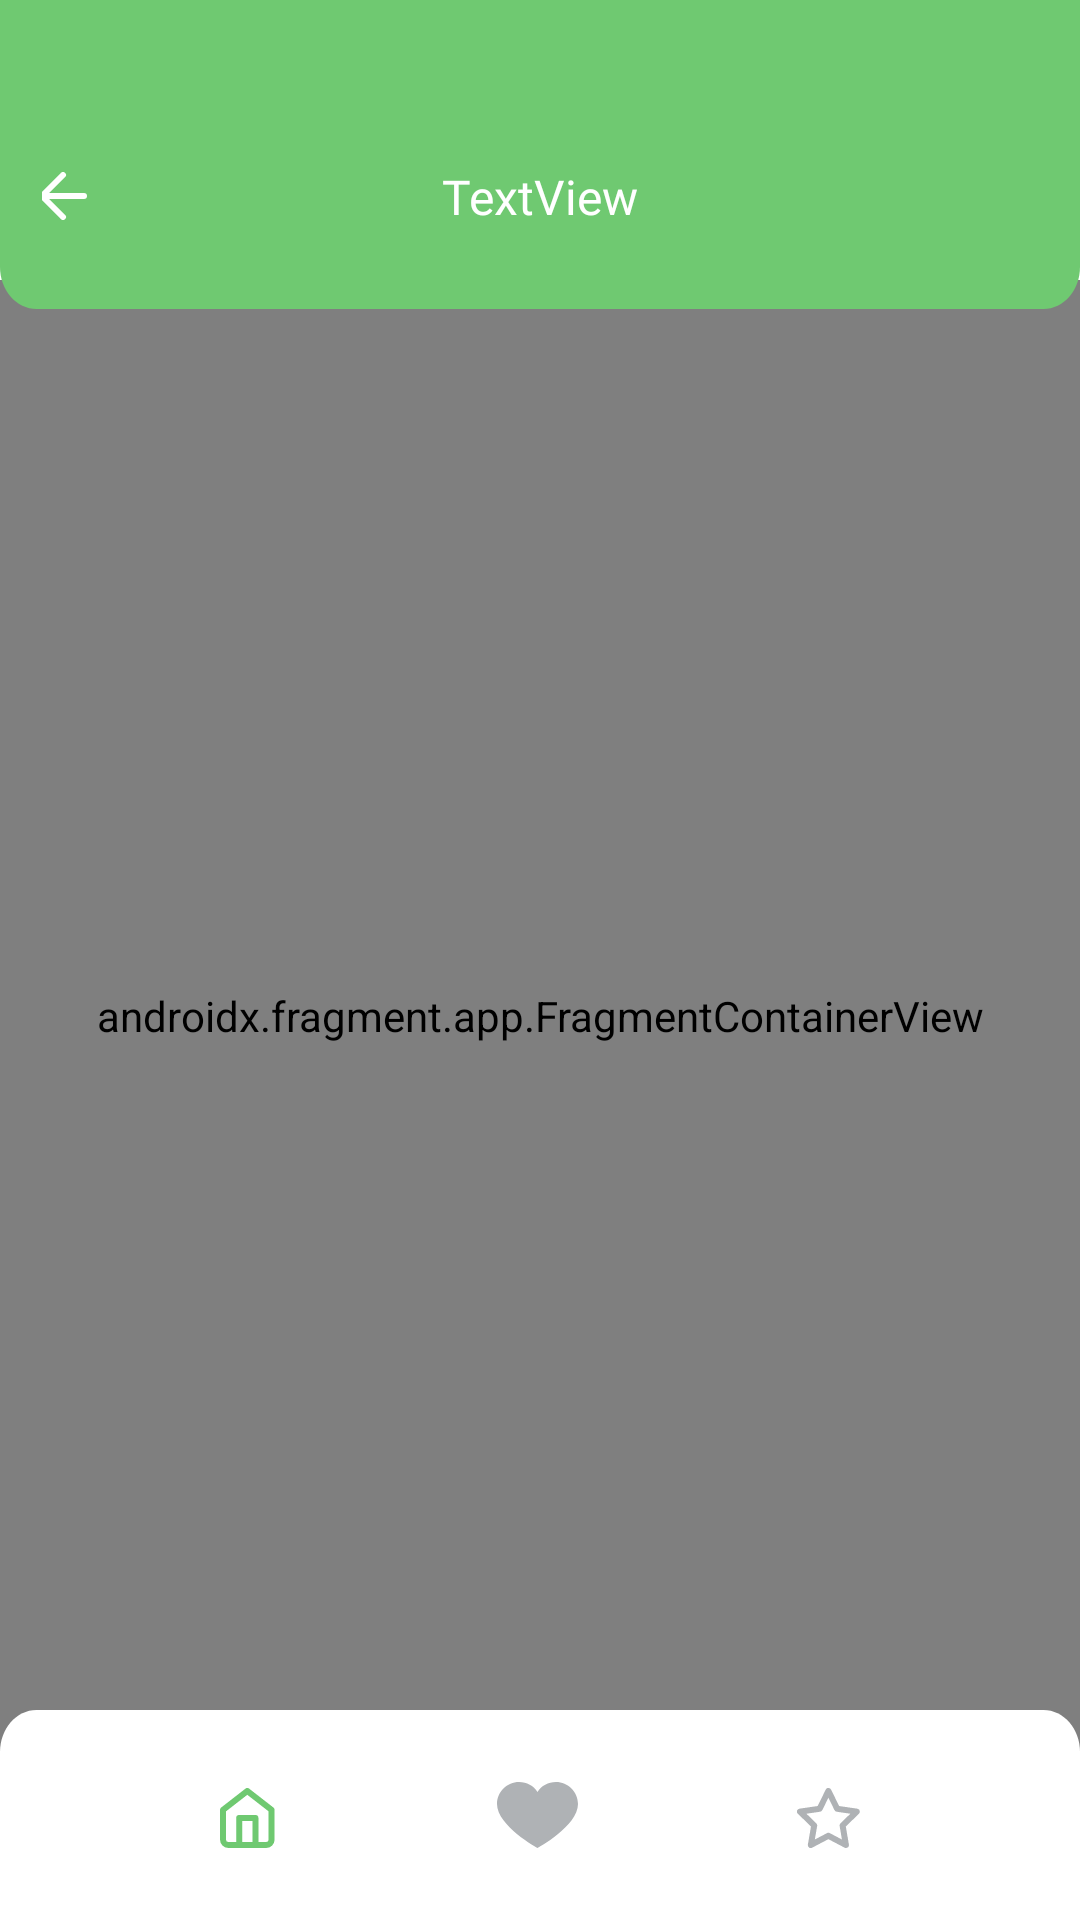

Icon bounding boxes for this 1080 x 1920 phone screenshot, format (x1, y1, x2, y2):
back: (42, 172, 87, 220)
favourites false: (497, 1782, 578, 1848)
home true: (220, 1788, 275, 1848)
